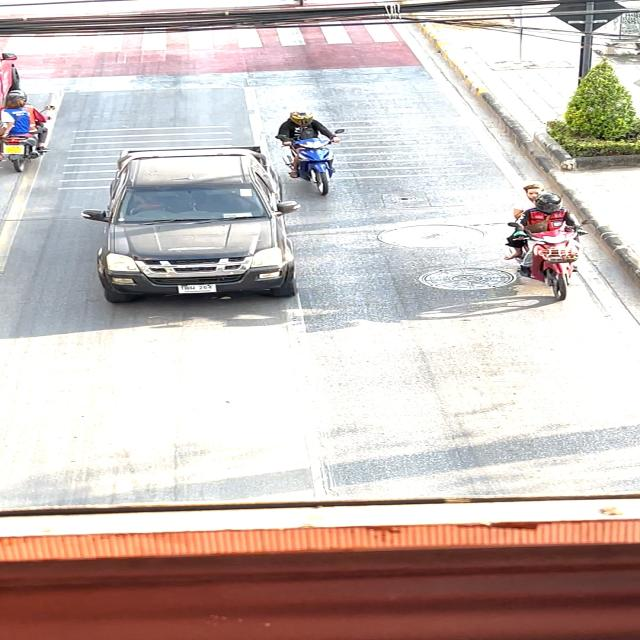car: (81, 137, 307, 311)
